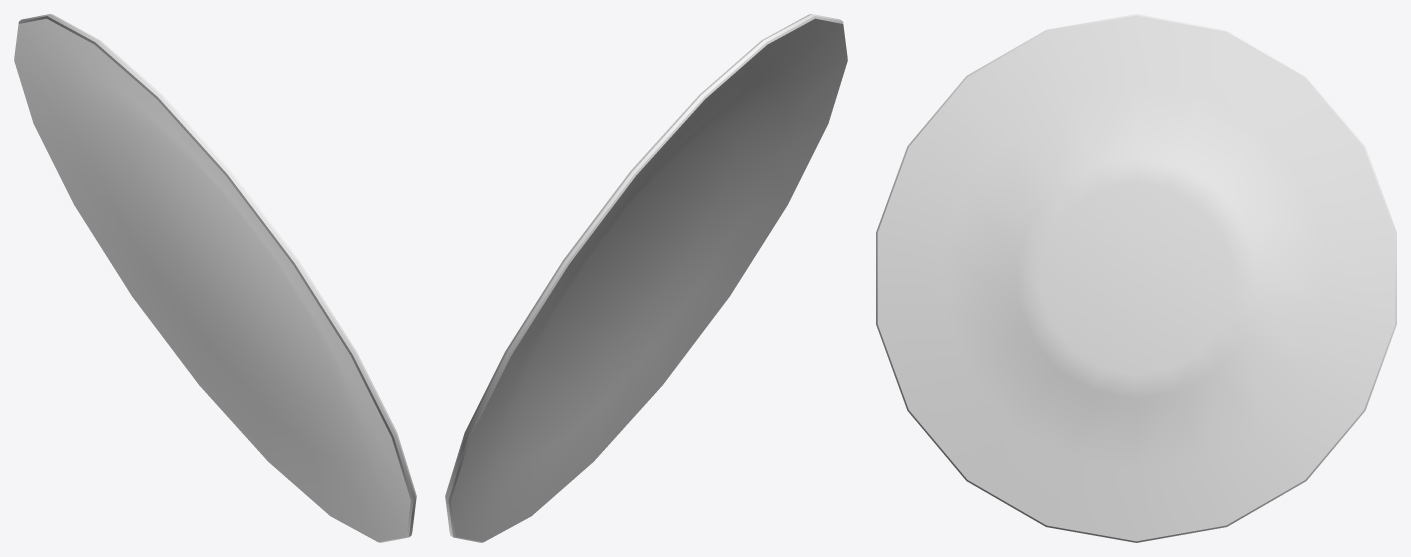
Rendered from Kitchen_Plate.FBX.
The picture shows the model from 3 angles, left to right: view 1: azimuth 30°, elevation 25°; view 2: azimuth 150°, elevation 25°; view 3: azimuth 270°, elevation 25°; orthographic projection. The views are drawn at different scales.
Visible parts, largest first — view 1: Kitchen_Plate001; view 2: Kitchen_Plate001; view 3: Kitchen_Plate001.
Boxes of the visible parts, x1=… form: Kitchen_Plate001: x1=14, y1=14, x2=416, y2=542; Kitchen_Plate001: x1=445, y1=14, x2=847, y2=542; Kitchen_Plate001: x1=876, y1=14, x2=1396, y2=542.
Size of the model in its own units: 4.41 by 9.3 by 10.08.
